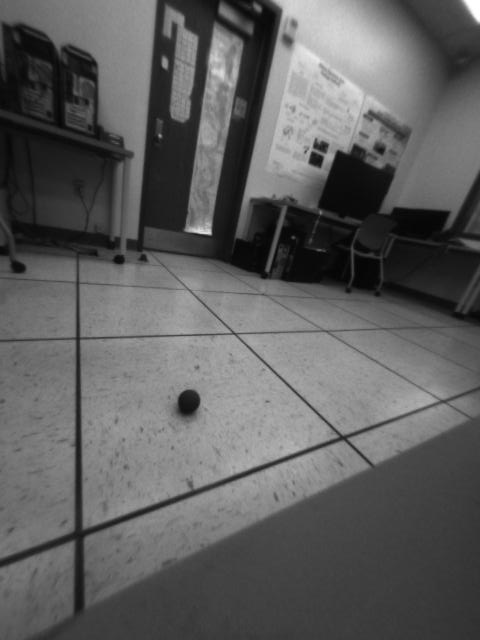dogtoy: (171, 385, 206, 422)
